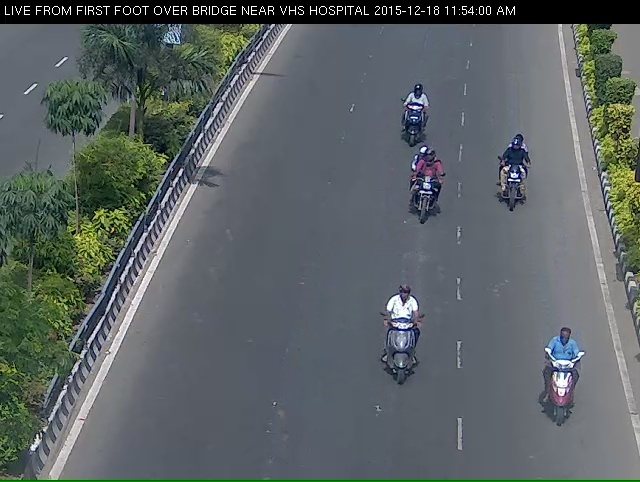Person: (528, 339, 590, 456), (378, 305, 426, 422), (490, 138, 536, 236), (401, 160, 446, 244), (390, 92, 432, 156)
